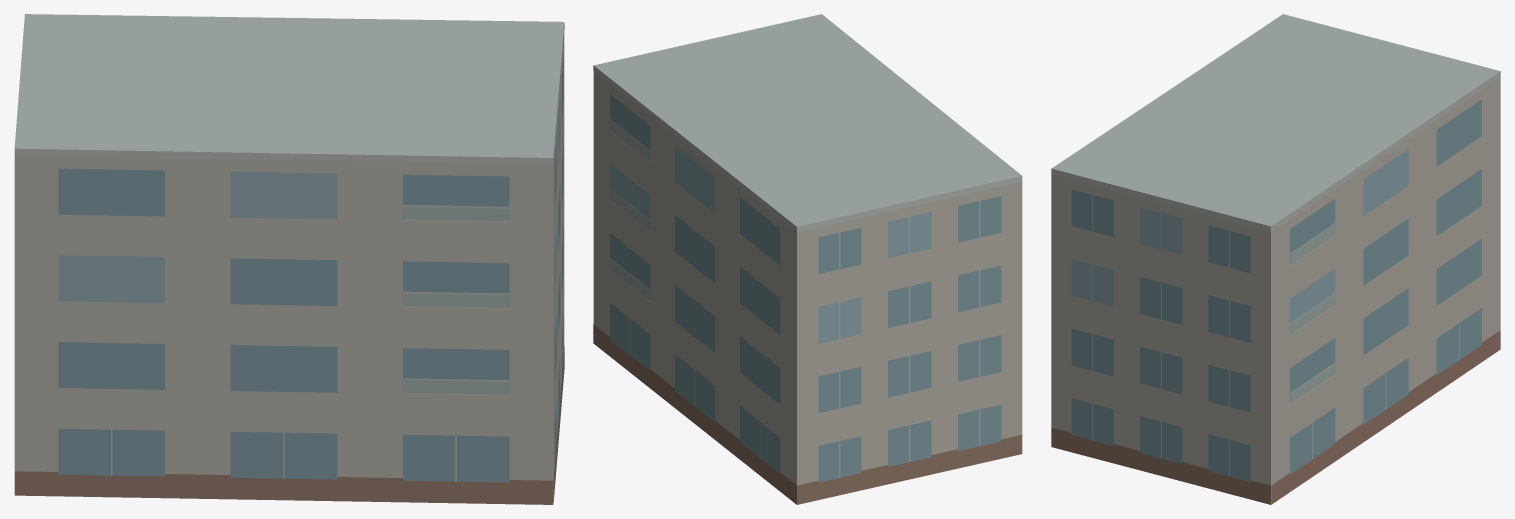
The model's file is survey-upis-32795032.glb.
3 renders of one model, left to right at view 1: azimuth 30°, elevation 25°; view 2: azimuth 150°, elevation 25°; view 3: azimuth 270°, elevation 25°, orthographic. The views are drawn at different scales.
Visible parts, largest first — view 1: survey-upis-32795032.tmp; view 2: survey-upis-32795032.tmp; view 3: survey-upis-32795032.tmp.
Boxes of the visible parts, x1,y1,x2,y2 form: survey-upis-32795032.tmp: (14, 14, 564, 504); survey-upis-32795032.tmp: (593, 14, 1022, 504); survey-upis-32795032.tmp: (1051, 14, 1500, 504).
Size of the model in its own units: 19.98 by 12.2 by 17.84.
